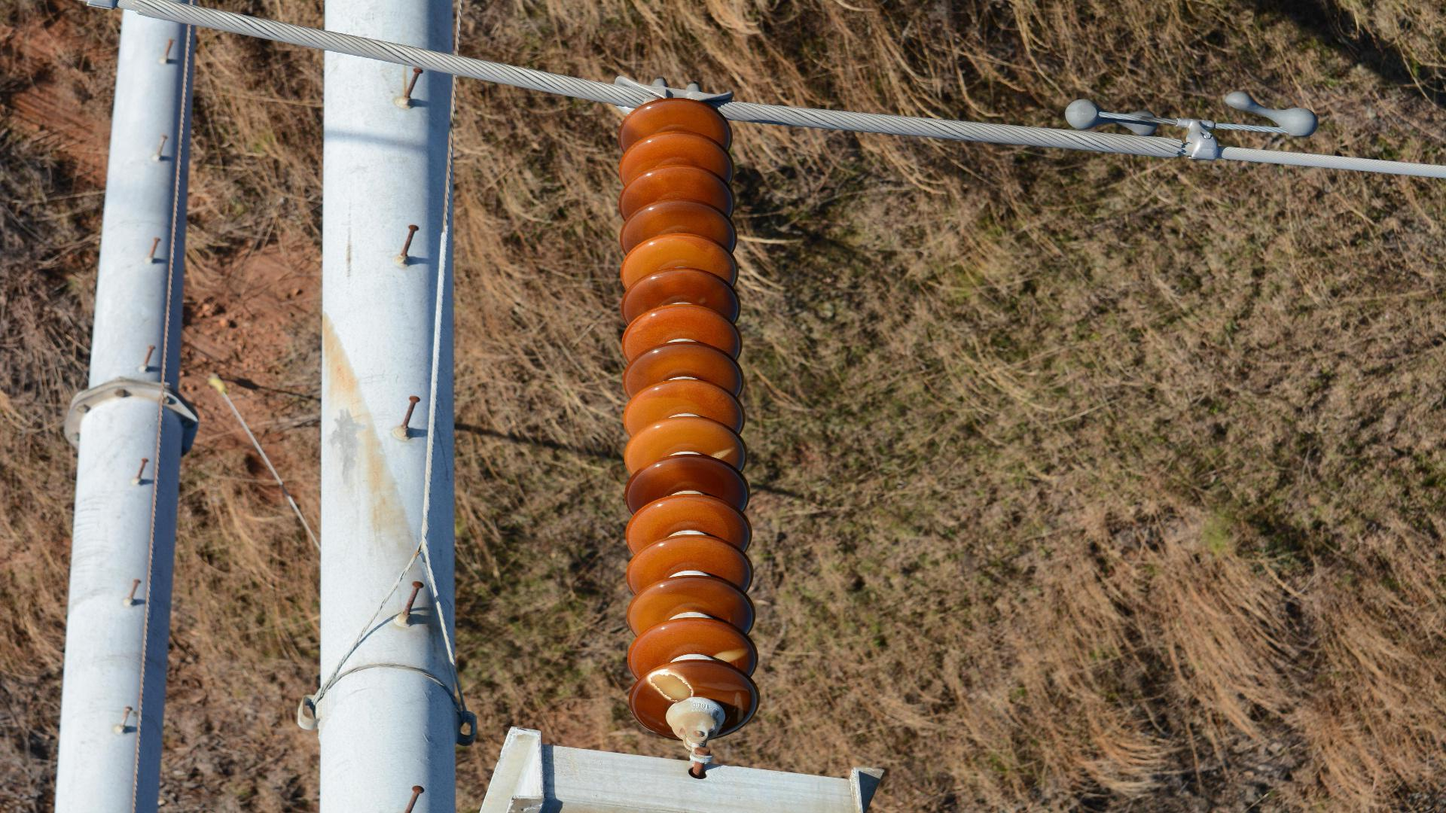insulator: (613, 93, 764, 743)
insulator_flashover: (645, 670, 695, 704), (712, 645, 749, 665), (709, 446, 736, 461)
